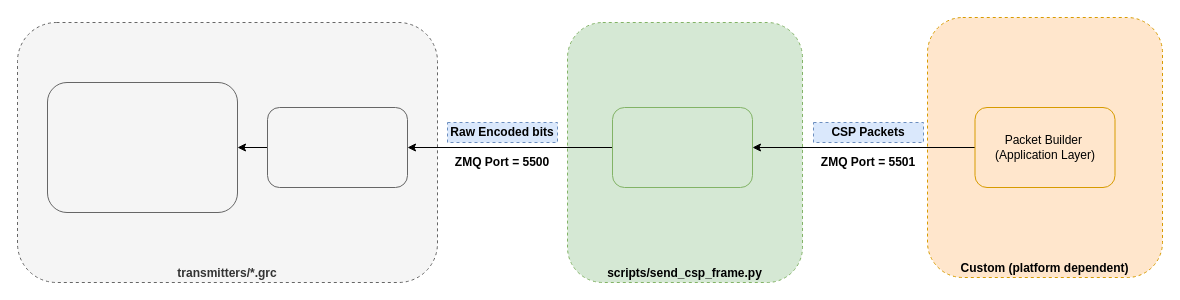
This 1180x300 diagram has some shape labels left out. Here are the shapes that lost their labels. From the top down, the centre of each, then its label:
pixel 142 147: Pluto SDR Address="pluto.local"
pixel 337 147: Modulation
pixel 682 147: Packet Encoding
